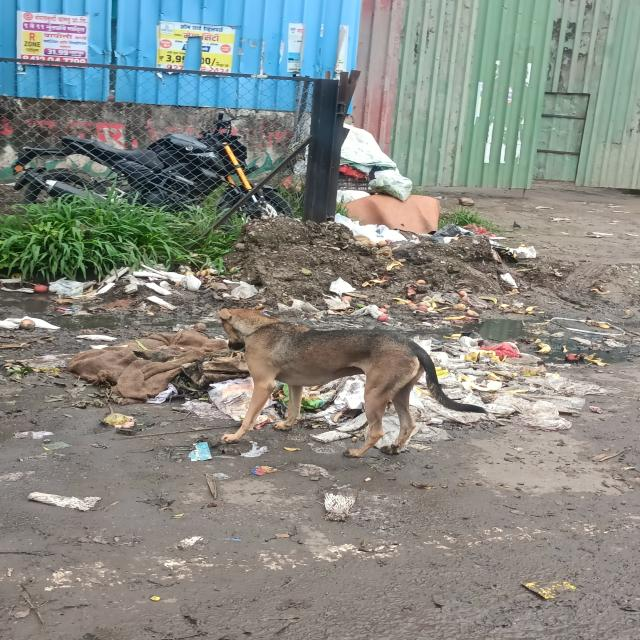garbage: (3, 265, 242, 421), (245, 218, 529, 318), (403, 323, 592, 428)
